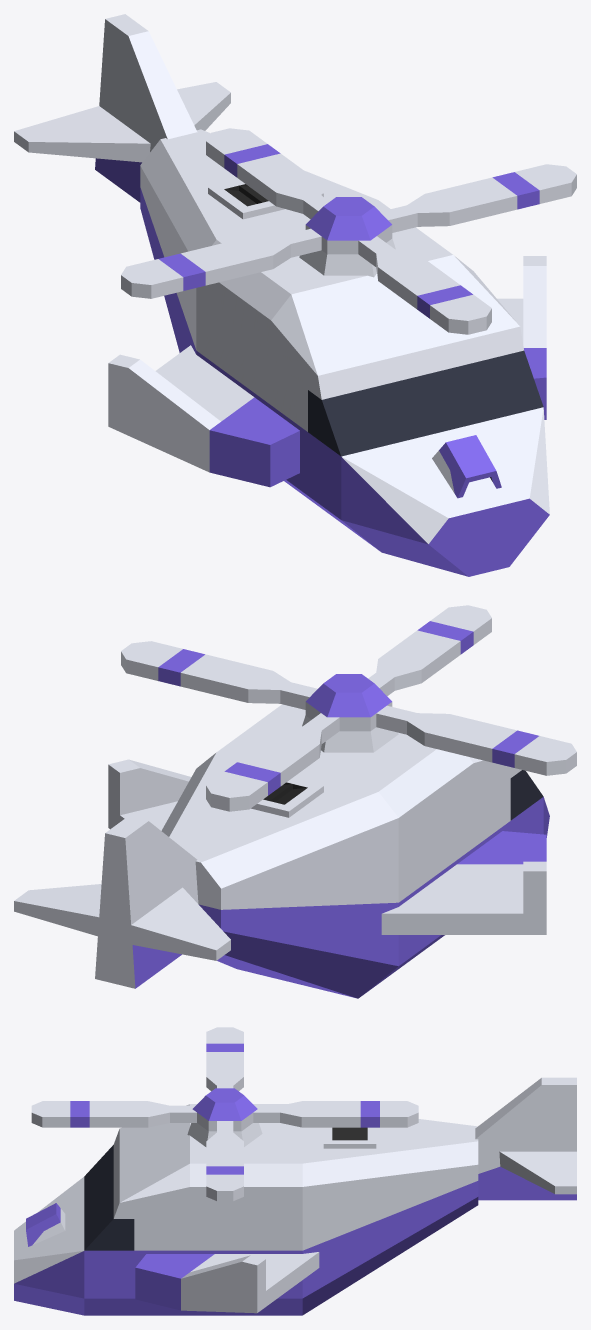
File: DAChoppa.fbx
3 views of the same model, one above another, from view 1: azimuth 30°, elevation 25°; view 2: azimuth 150°, elevation 25°; view 3: azimuth 270°, elevation 25° (orthographic). The views are drawn at different scales.
Visible parts, largest first — view 1: hull_cockpitNoseLow, propeller_quad, wing_slantWingletHigh (×2), rudder_sides, hull_tailTop, hull_body, hull_topEngine, panel_ventSmall; view 2: hull_tailTop, propeller_quad, rudder_sides, hull_body, wing_slantWingletHigh (×2), hull_cockpitNoseLow, panel_ventSmall; view 3: hull_cockpitNoseLow, hull_tailTop, propeller_quad, hull_body, rudder_sides, wing_slantWingletHigh, panel_ventSmall, hull_topEngine.
Part boxes in pixels (x1=…): hull_cockpitNoseLow: x1=271, y1=255, x2=549, y2=576; propeller_quad: x1=121, y1=128, x2=576, y2=334; wing_slantWingletHigh (×2): x1=108, y1=256, x2=546, y2=487; rudder_sides: x1=14, y1=14, x2=230, y2=202; hull_tailTop: x1=140, y1=129, x2=377, y2=353; hull_body: x1=196, y1=200, x2=452, y2=498; hull_topEngine: x1=432, y1=435, x2=501, y2=498; panel_ventSmall: x1=208, y1=179, x2=323, y2=219; hull_tailTop: x1=161, y1=752, x2=398, y2=998; propeller_quad: x1=121, y1=605, x2=576, y2=811; rudder_sides: x1=14, y1=816, x2=230, y2=988; hull_body: x1=217, y1=704, x2=473, y2=995; wing_slantWingletHigh (×2): x1=108, y1=759, x2=546, y2=934; hull_cockpitNoseLow: x1=436, y1=757, x2=549, y2=941; panel_ventSmall: x1=251, y1=778, x2=323, y2=817; hull_cockpitNoseLow: x1=14, y1=1104, x2=189, y2=1315; hull_tailTop: x1=302, y1=1119, x2=478, y2=1314; propeller_quad: x1=31, y1=1027, x2=418, y2=1201; hull_body: x1=190, y1=1104, x2=302, y2=1315; rudder_sides: x1=475, y1=1077, x2=576, y2=1200; wing_slantWingletHigh: x1=135, y1=1252, x2=319, y2=1313; panel_ventSmall: x1=323, y1=1127, x2=376, y2=1148; hull_topEngine: x1=26, y1=1203, x2=65, y2=1246.
Bounding box in the file's own units: 0.22 × 0.133 × 0.32.
